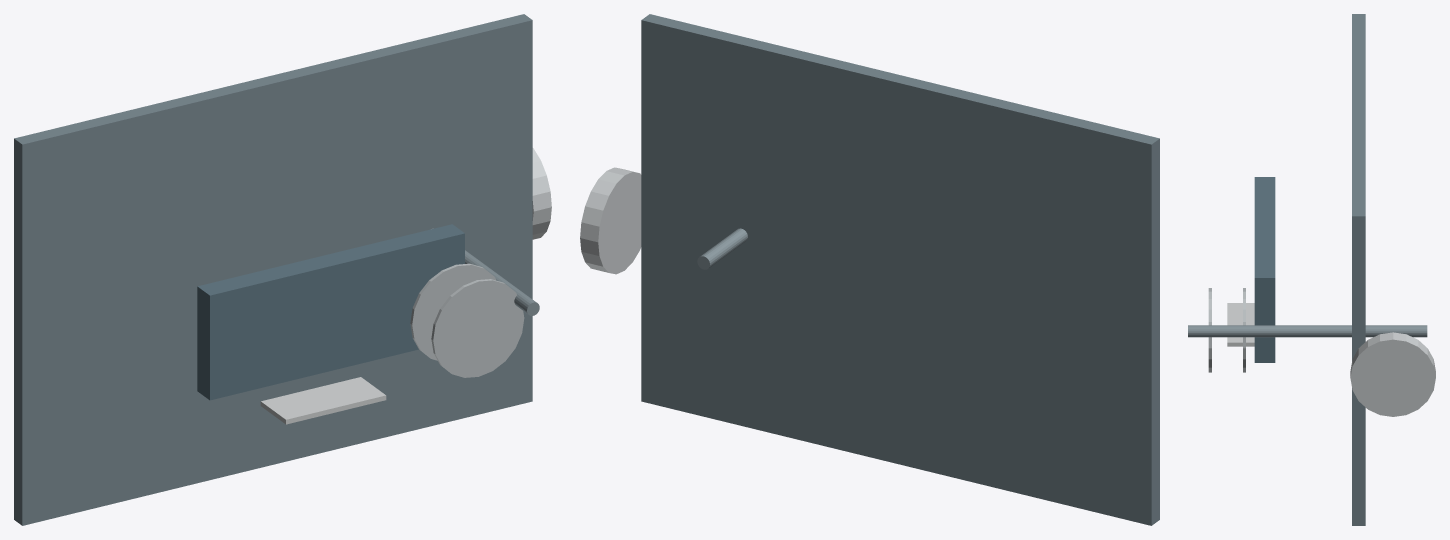
Rendered from bp-cuff-high.glb.
3 renders of one model, left to right at view 1: azimuth 30°, elevation 25°; view 2: azimuth 150°, elevation 25°; view 3: azimuth 270°, elevation 25°, orthographic. The views are drawn at different scales.
Visible parts, largest first — view 1: presentation_base_detail, bp_cuff, gauge_tick_ring_2, cuff_label_detail, gauge_tick_ring_1, bp_gauge, bp_tube; view 2: presentation_base_detail, bp_gauge, bp_tube; view 3: presentation_base_detail, bp_gauge, bp_cuff, bp_tube, cuff_label_detail.
Part boxes in pixels (x1=…): presentation_base_detail: x1=14, y1=14, x2=532, y2=525; bp_cuff: x1=197, y1=224, x2=464, y2=400; gauge_tick_ring_2: x1=431, y1=279, x2=524, y2=377; cuff_label_detail: x1=260, y1=377, x2=386, y2=424; gauge_tick_ring_1: x1=410, y1=263, x2=495, y2=360; bp_gauge: x1=532, y1=148, x2=551, y2=239; bp_tube: x1=431, y1=228, x2=539, y2=315; presentation_base_detail: x1=641, y1=14, x2=1159, y2=525; bp_gauge: x1=580, y1=167, x2=641, y2=274; bp_tube: x1=697, y1=228, x2=747, y2=269; presentation_base_detail: x1=1352, y1=14, x2=1365, y2=525; bp_gauge: x1=1350, y1=332, x2=1435, y2=416; bp_cuff: x1=1254, y1=177, x2=1275, y2=362; bp_tube: x1=1188, y1=325, x2=1427, y2=337; cuff_label_detail: x1=1227, y1=303, x2=1254, y2=346.
Size of the model in its own units: 2.9 by 2 by 1.45.
